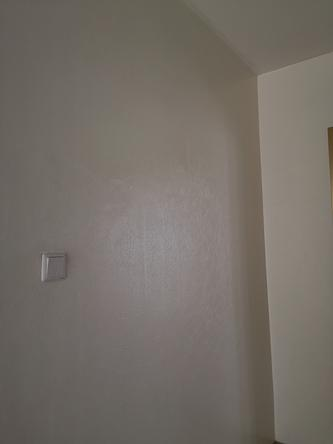switch: (42, 253, 67, 280)
